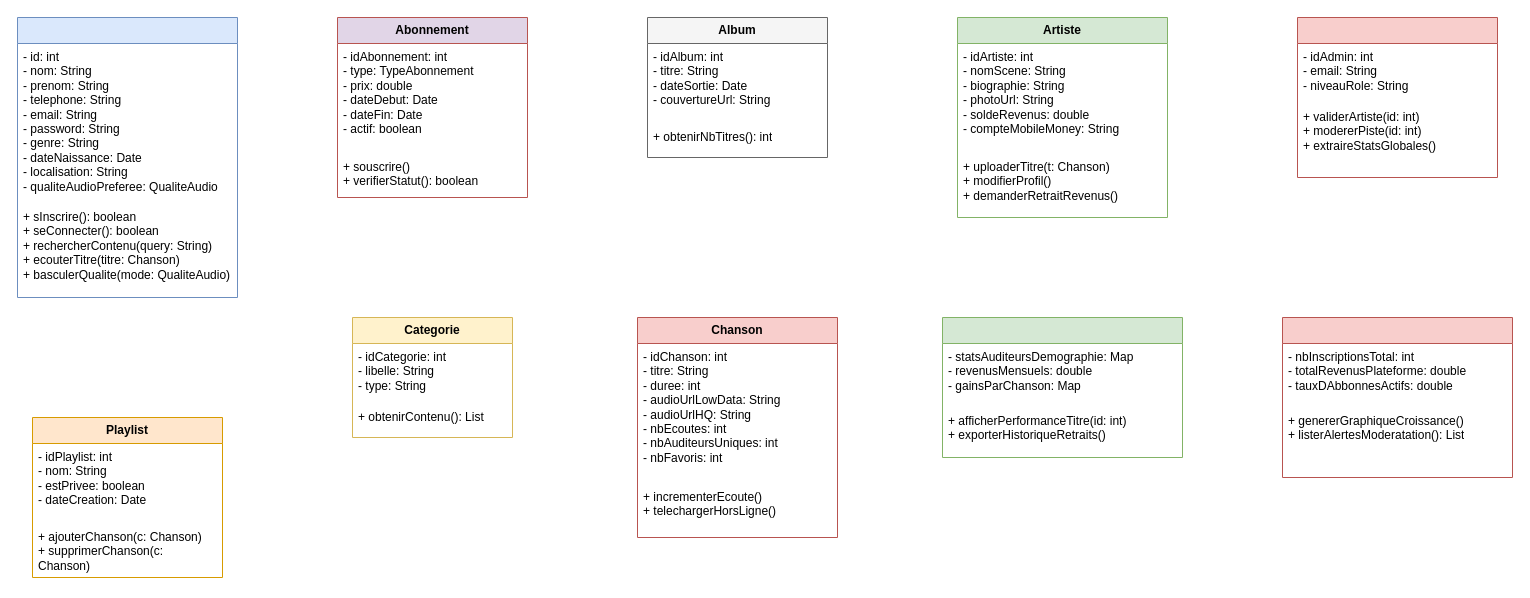
Some shapes in this 1530 by 598 pixel diagram are drawn without their labels. Each missing label, with the box of its shape:
Administrateur: (1296, 16, 1498, 178)
DashboardAdmin: (1282, 316, 1512, 478)
DashboardArtiste: (942, 316, 1182, 458)
